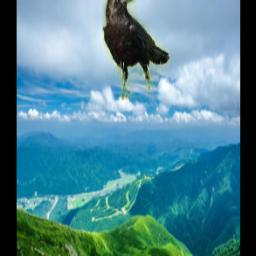Crow: (103, 0, 170, 101)
